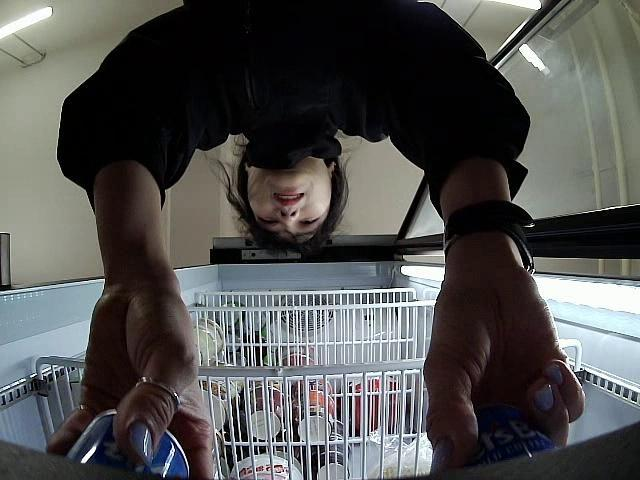15_letsbe: (429, 408, 562, 480), (72, 409, 190, 480)
